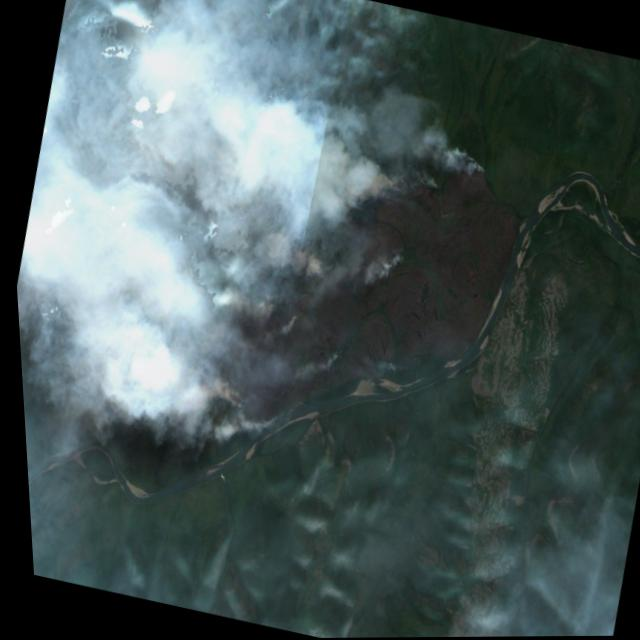fire: (208, 385, 278, 448), (446, 146, 493, 190), (371, 243, 411, 286), (308, 343, 340, 385), (275, 306, 304, 340), (372, 356, 405, 384), (417, 169, 443, 200)
